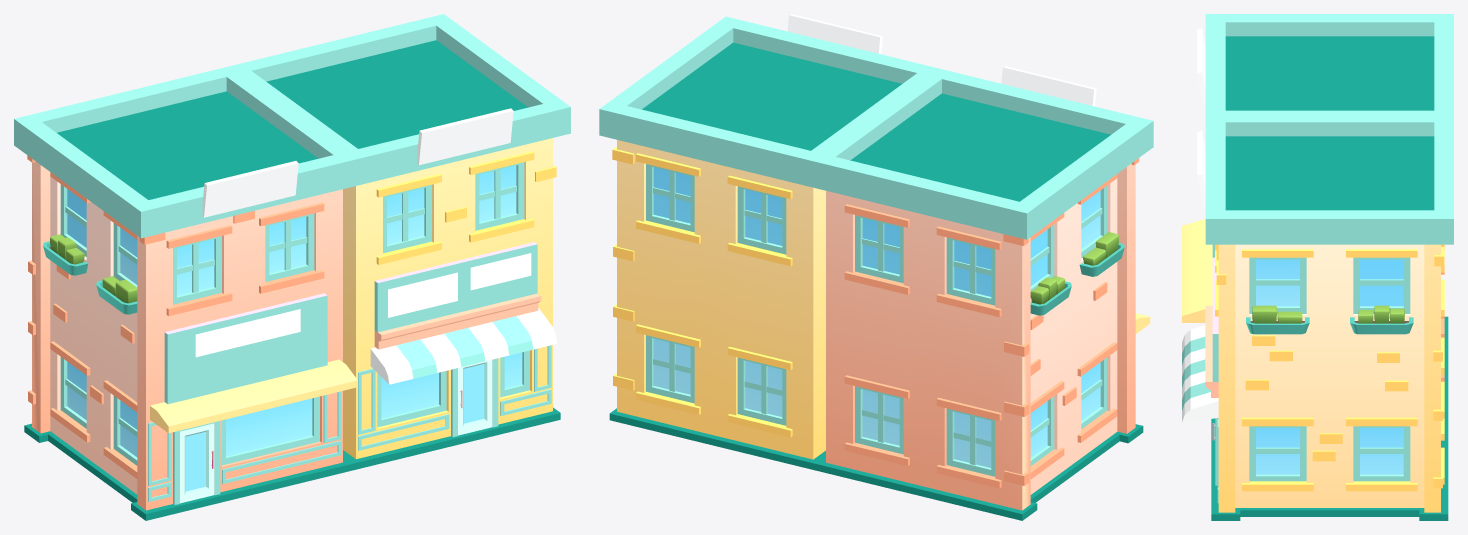
File: city2-building-living-25.glb
The picture shows the model from 3 angles, left to right: view 1: azimuth 30°, elevation 25°; view 2: azimuth 150°, elevation 25°; view 3: azimuth 270°, elevation 25°; orthographic projection. The views are drawn at different scales.
Visible parts, largest first — view 1: Building_Living_25; view 2: Building_Living_25; view 3: Building_Living_25.
Part boxes in pixels (x1,y1,x2,y2): Building_Living_25: (14,14,570,520); Building_Living_25: (599,14,1153,520); Building_Living_25: (1182,14,1453,520).
Size of the model in its own units: 13.39 by 9.77 by 7.52.
1 material, 1 textured.
